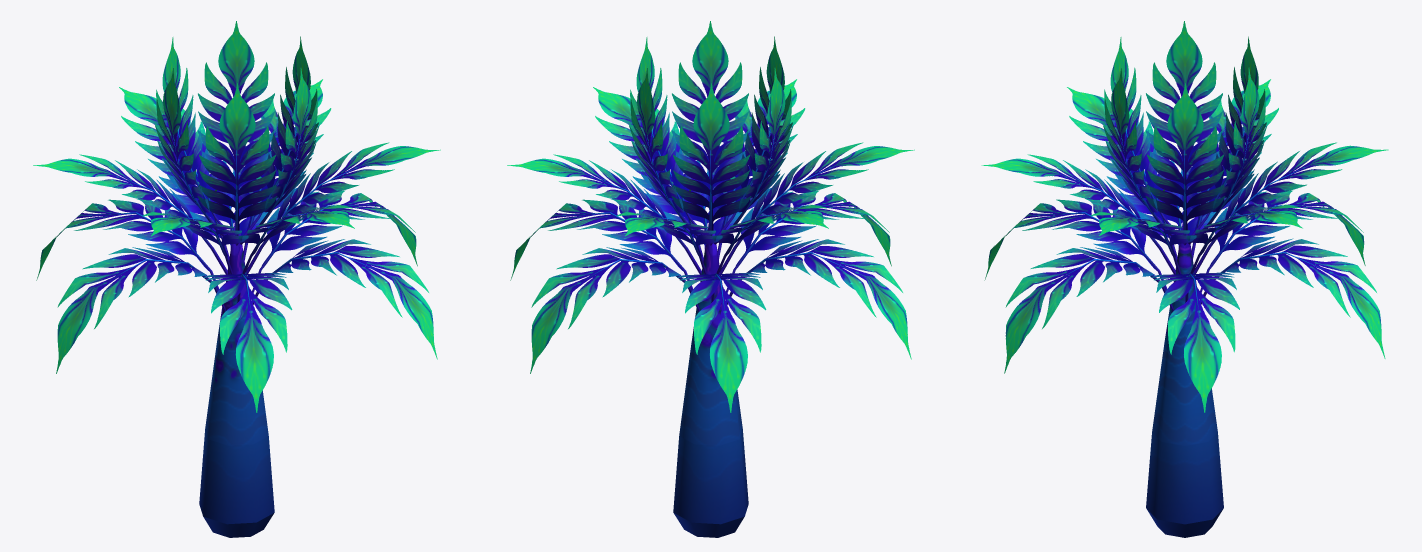
The model's file is Blue_Tree_07a.FBX.
The picture shows the model from 3 angles, left to right: view 1: azimuth 30°, elevation 25°; view 2: azimuth 150°, elevation 25°; view 3: azimuth 270°, elevation 25°; orthographic projection.
Parts seen in each view (by area): view 1: Blue_Tree_07a; view 2: Blue_Tree_07a; view 3: Blue_Tree_07a.
Boxes of the visible parts, <box> form: Blue_Tree_07a: <box>33,21,440,537</box>; Blue_Tree_07a: <box>507,21,914,537</box>; Blue_Tree_07a: <box>981,21,1388,537</box>.
Size of the model in its own units: 429 by 509 by 422.
